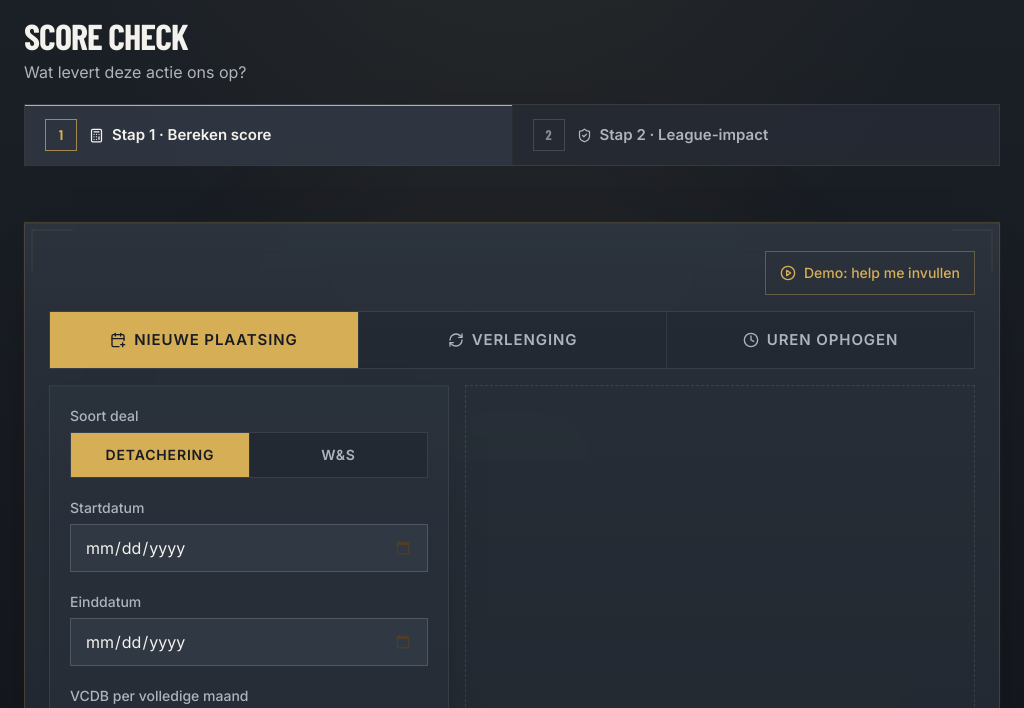
Test: ScoreCheckPage — Calculator and League Check as one flow › "Nieuwe berekening" clears the calculator and the League Check
In the date field labelled "Startdatum": (249, 548) [70,524,428,572], type "2026-10-01"
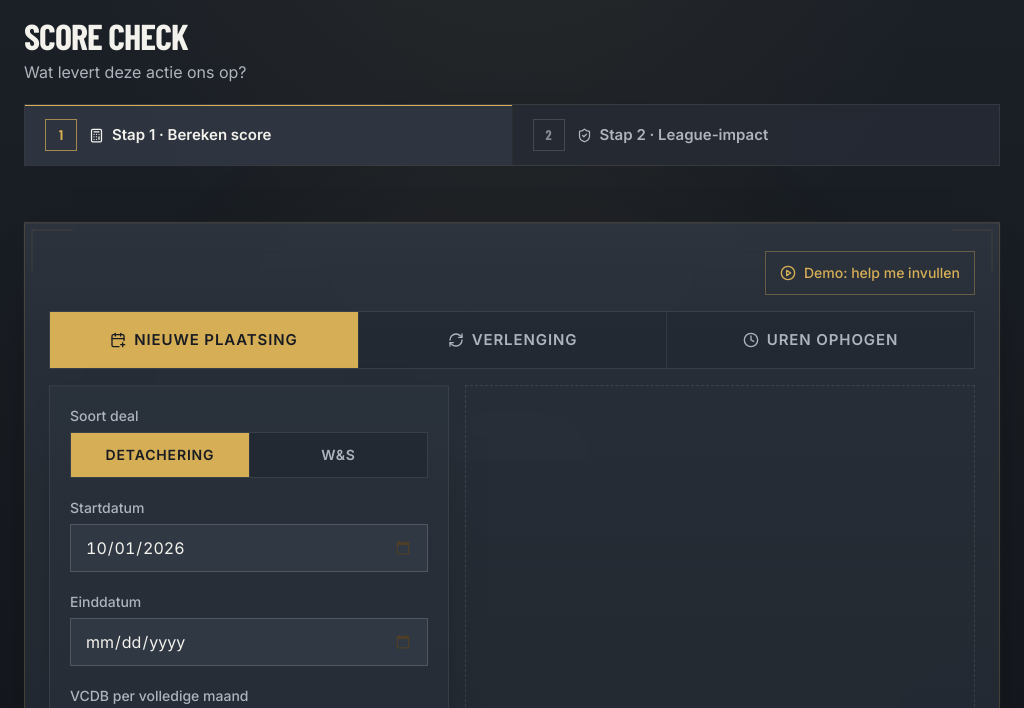
In the date field labelled "Einddatum": (249, 642) [70,618,428,666], type "2027-03-31"
(page scrolled)
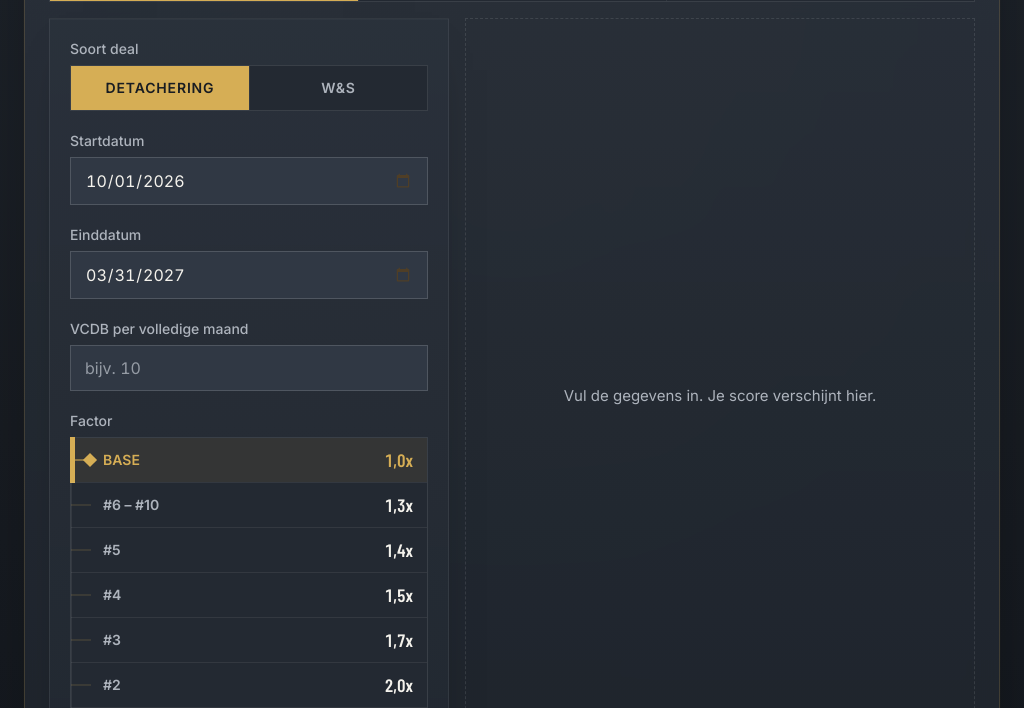
In the number field labelled "VCDB per volledige maand": (249, 368) [70,345,428,391], type "1000"
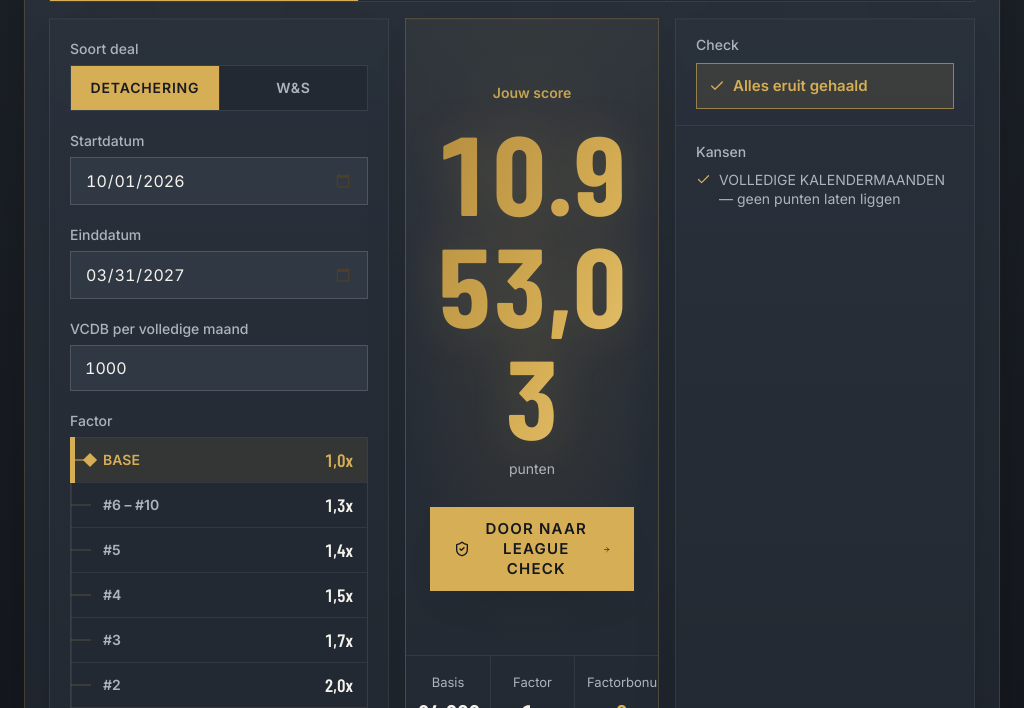
Click the button "Door naar League Check": click(532, 549) [430,507,634,591]
(page scrolled)
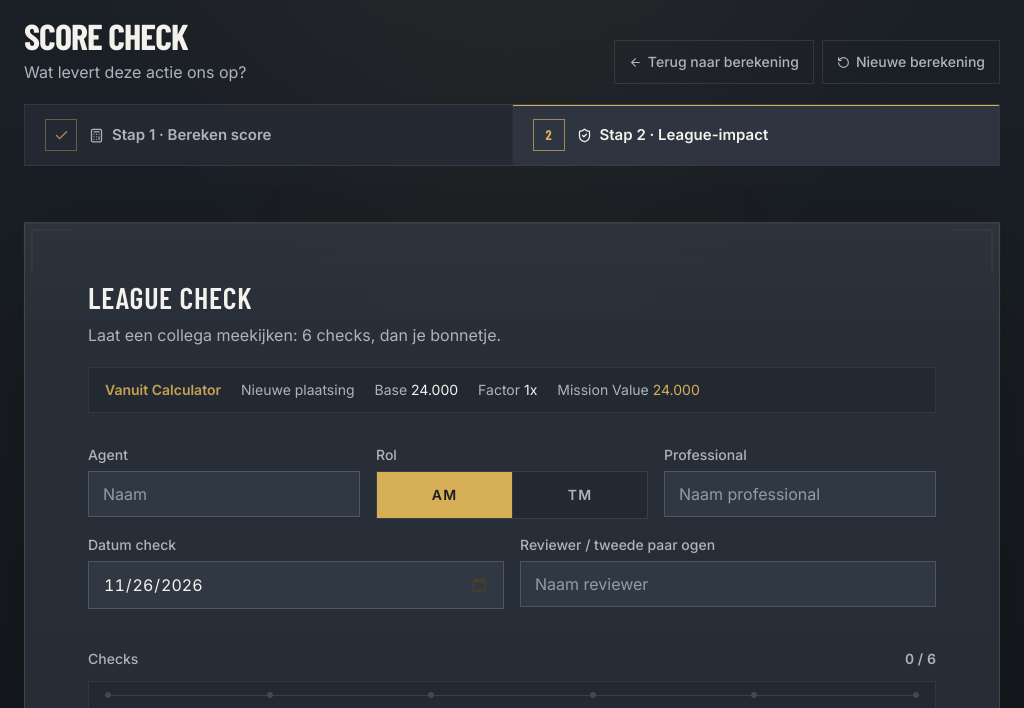
Click the button "Nieuwe berekening": click(911, 62) [822,40,1000,84]
(page scrolled)
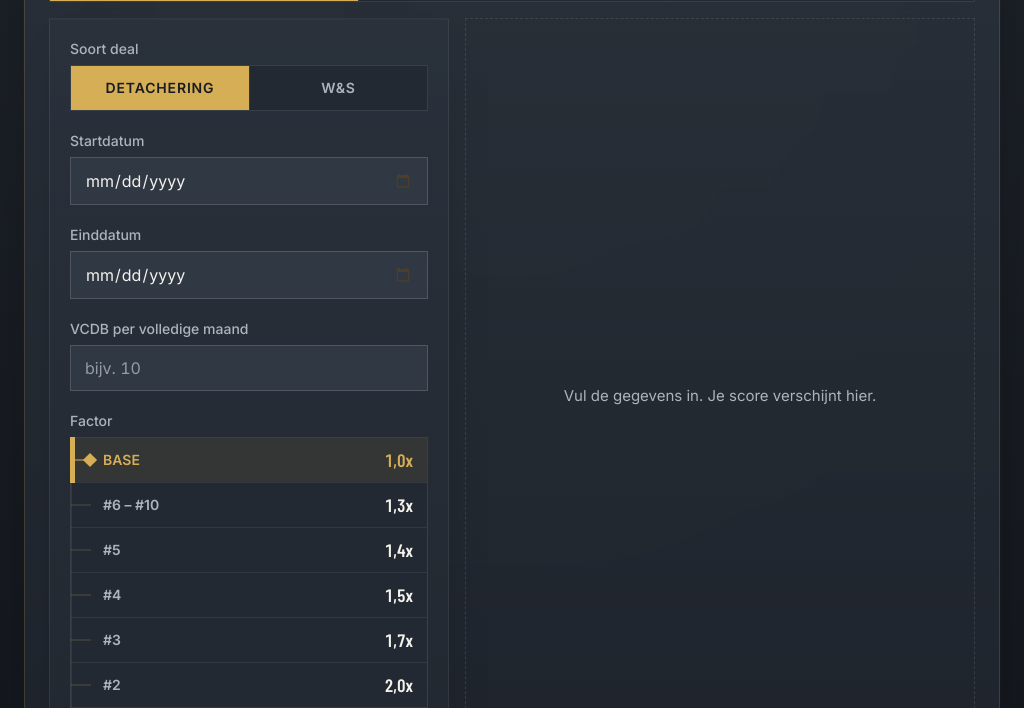
Expected: the number field labelled "VCDB per volledige maand" is not empty, [70,345,428,391]
Expected: the text "Vanuit Calculator" is gone
